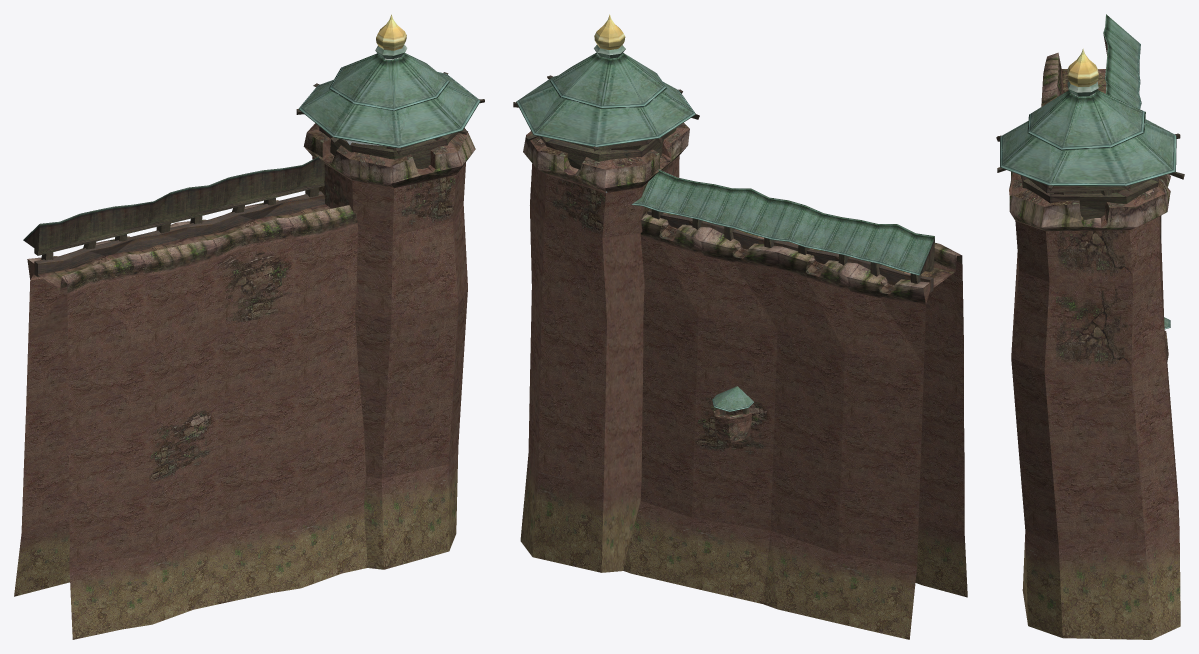
Rendered from C1SMGIANTGATE_RIGHT.obj.
3 renders of one model, left to right at view 1: azimuth 30°, elevation 25°; view 2: azimuth 150°, elevation 25°; view 3: azimuth 270°, elevation 25°, orthographic. The views are drawn at different scales.
Parts seen in each view (by area): view 1: Node 0; view 2: Node 0; view 3: Node 0.
Part boxes in pixels (box(x1,y1,x2,y2)): Node 0: box(14, 14, 484, 639); Node 0: box(513, 14, 967, 639); Node 0: box(996, 14, 1184, 639).
Size of the model in its own units: 28.2 by 33.78 by 10.29.
4 materials, 4 textured.
